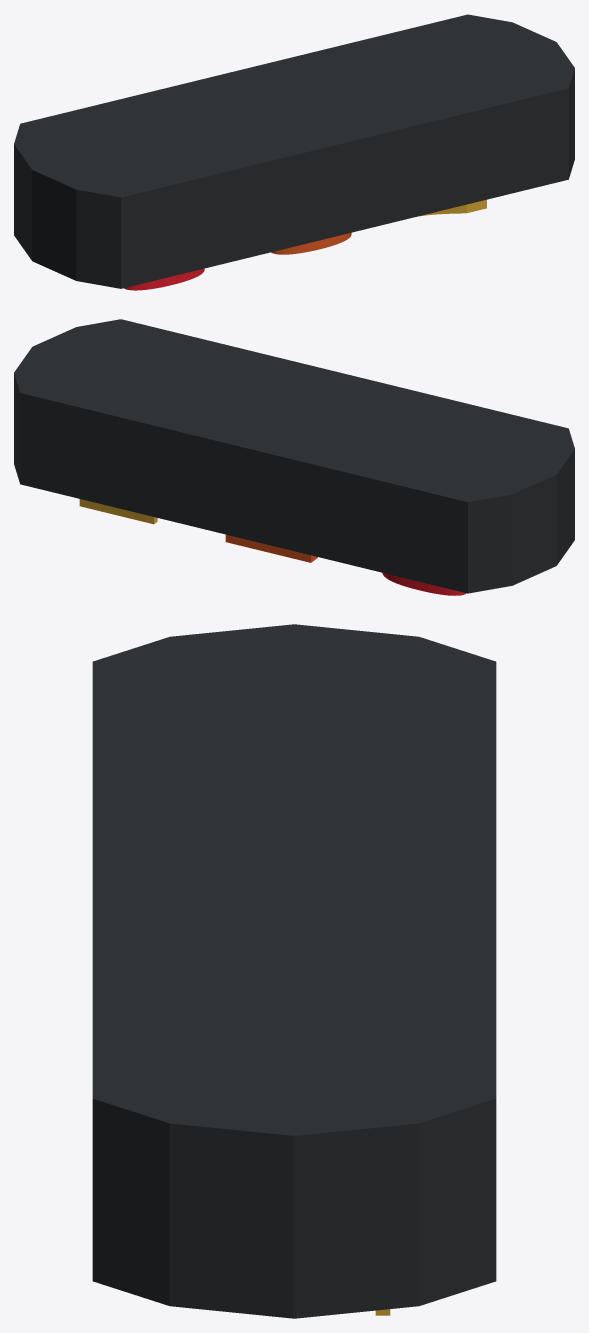
Rendered from tinker.obj.
3 views of the same model, one above another, from view 1: azimuth 30°, elevation 25°; view 2: azimuth 150°, elevation 25°; view 3: azimuth 270°, elevation 25° (orthographic). The views are drawn at different scales.
Parts seen in each view (by area): view 1: group_0_2829873, group_0_14900002, group_0_15277357, group_0_14789940; view 2: group_0_2829873, group_0_14900002, group_0_15277357, group_0_14789940; view 3: group_0_2829873.
Part boxes in pixels (bbox=[...]): group_0_2829873: bbox=[14, 14, 574, 288]; group_0_14900002: bbox=[271, 232, 351, 254]; group_0_15277357: bbox=[124, 268, 204, 290]; group_0_14789940: bbox=[419, 199, 486, 216]; group_0_2829873: bbox=[14, 319, 574, 593]; group_0_14900002: bbox=[225, 534, 317, 562]; group_0_15277357: bbox=[382, 573, 465, 595]; group_0_14789940: bbox=[79, 499, 157, 524]; group_0_2829873: bbox=[92, 624, 496, 1318].
Size of the model in its own units: 18 by 4.09 by 6.
